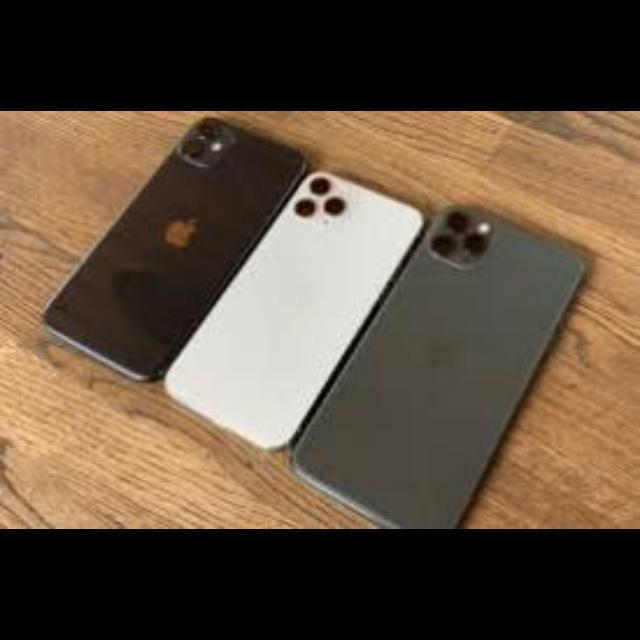PhoneUse: (294, 206, 586, 528), (166, 172, 426, 450), (42, 119, 308, 384)
